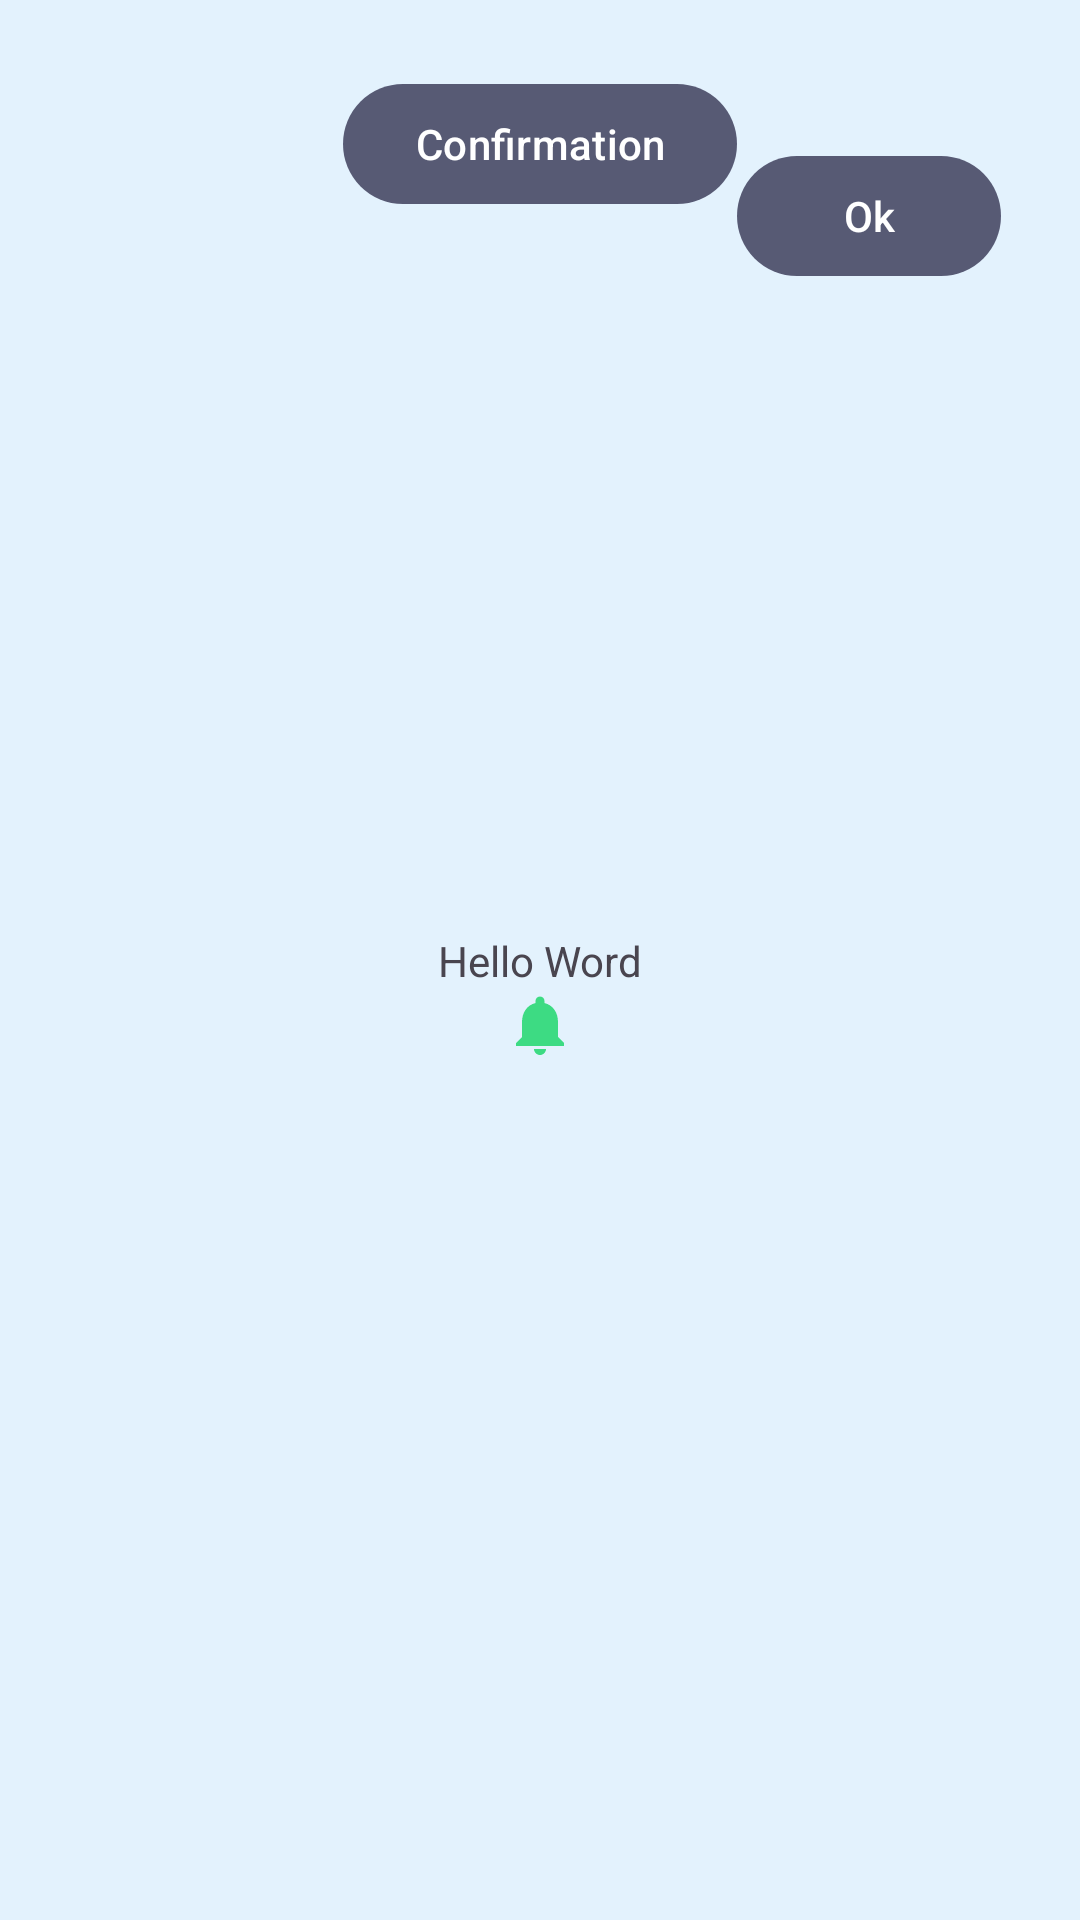

Screen size 1080×1920. Icon name, then its box in pixels as rect(x1, y1, x2, y2):
notification: rect(516, 996, 564, 1055)
